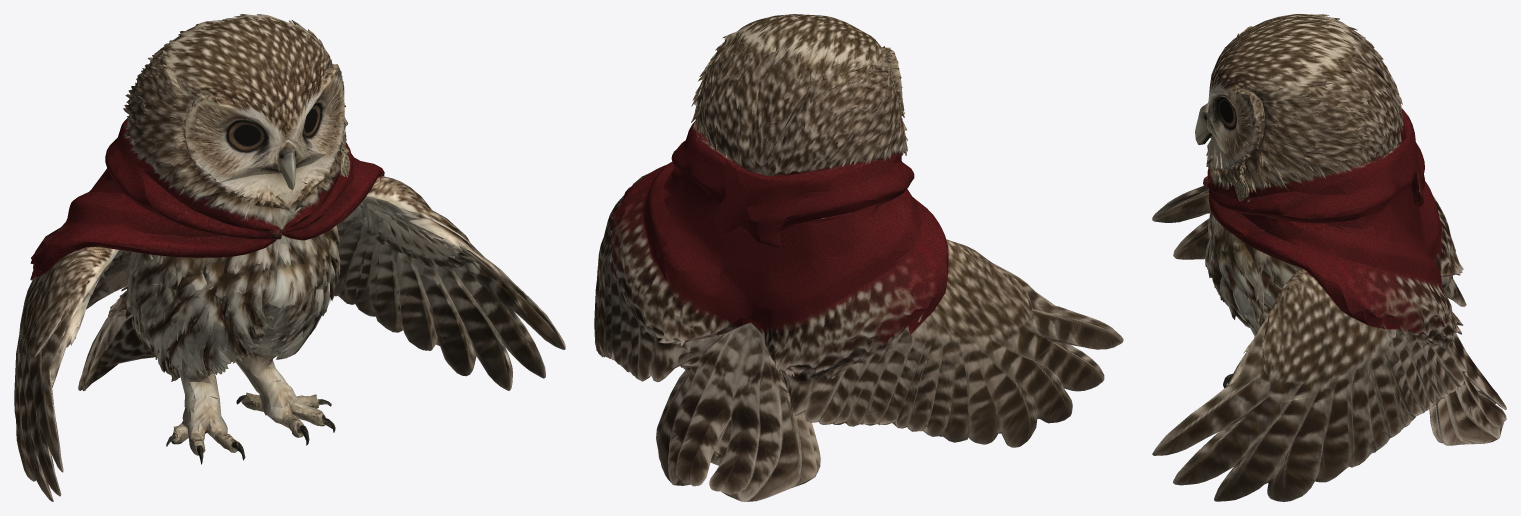
File: nida-mesh.glb
3 views of the same model, side by side, from view 1: azimuth 30°, elevation 25°; view 2: azimuth 150°, elevation 25°; view 3: azimuth 270°, elevation 25° (orthographic). The views are drawn at different scales.
Parts seen in each view (by area): view 1: Mesh_0; view 2: Mesh_0; view 3: Mesh_0.
Boxes of the visible parts, left/top/right/bottom form: Mesh_0: left=14, top=14, right=565, bottom=501; Mesh_0: left=594, top=14, right=1123, bottom=501; Mesh_0: left=1152, top=14, right=1506, bottom=501.
Bounding box in the file's own units: 1.9 × 1.49 × 1.21.
Materials: 1 (1 with a texture image).
